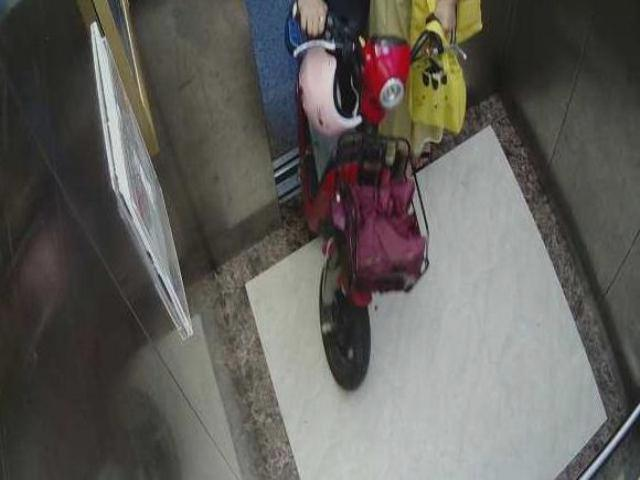emotor: (289, 17, 438, 401)
